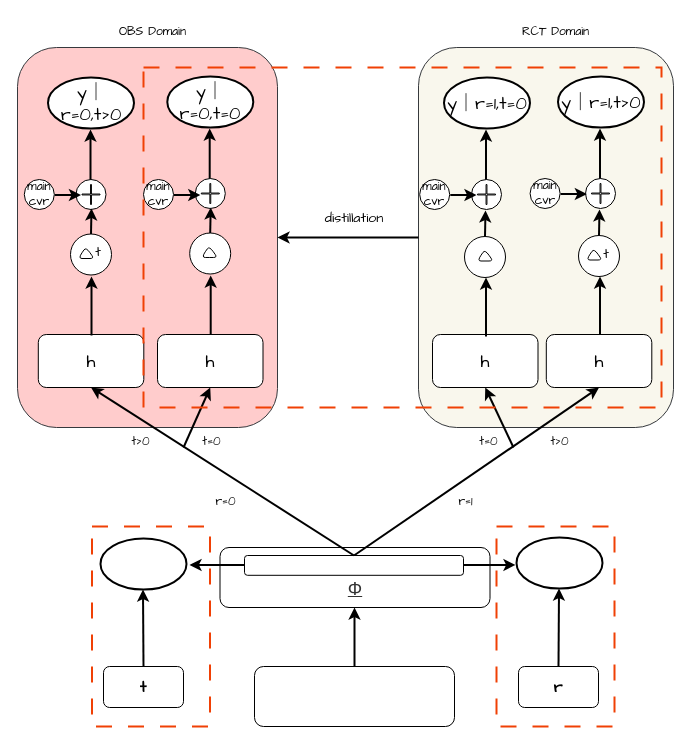
Some shapes in this 691 by 744 pixel diagram are drawn without their labels. The shapes that lost their labels are listed below. From the top down, each one's box as (x1, y1, x2, y2) in pixels, then its label:
(99, 537, 187, 590): IPM(t=0,t>0)
(244, 554, 464, 575): representation
(515, 536, 603, 589): IPM(r=0,r=1)
(254, 666, 454, 726): Input Features x
